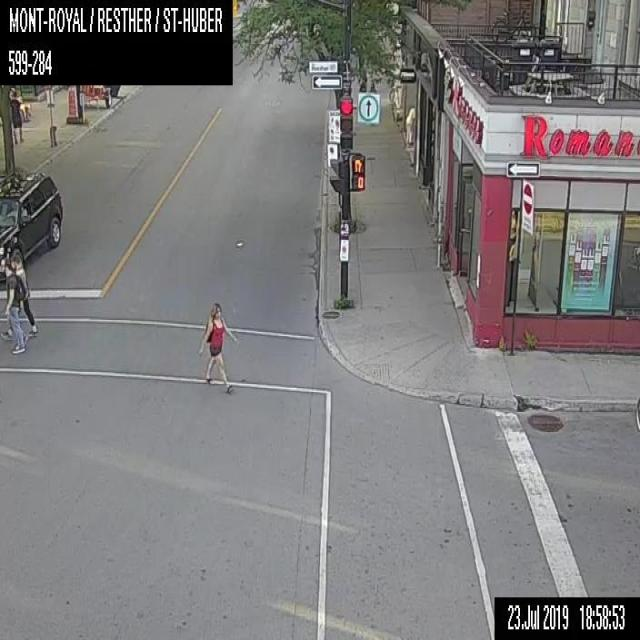construction: (64, 88, 76, 123)
pedestrian: (198, 302, 237, 394), (0, 255, 37, 337), (1, 262, 26, 354), (9, 86, 24, 142)
vehicle: (0, 170, 62, 278)
